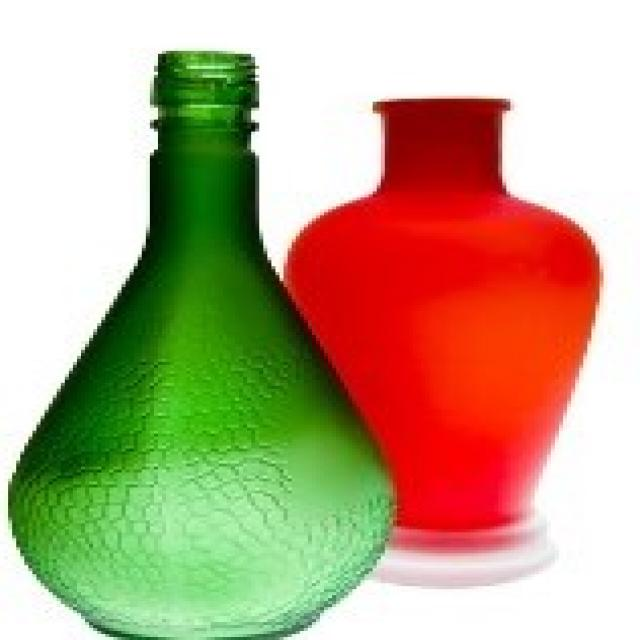electronic: (11, 44, 399, 640)
